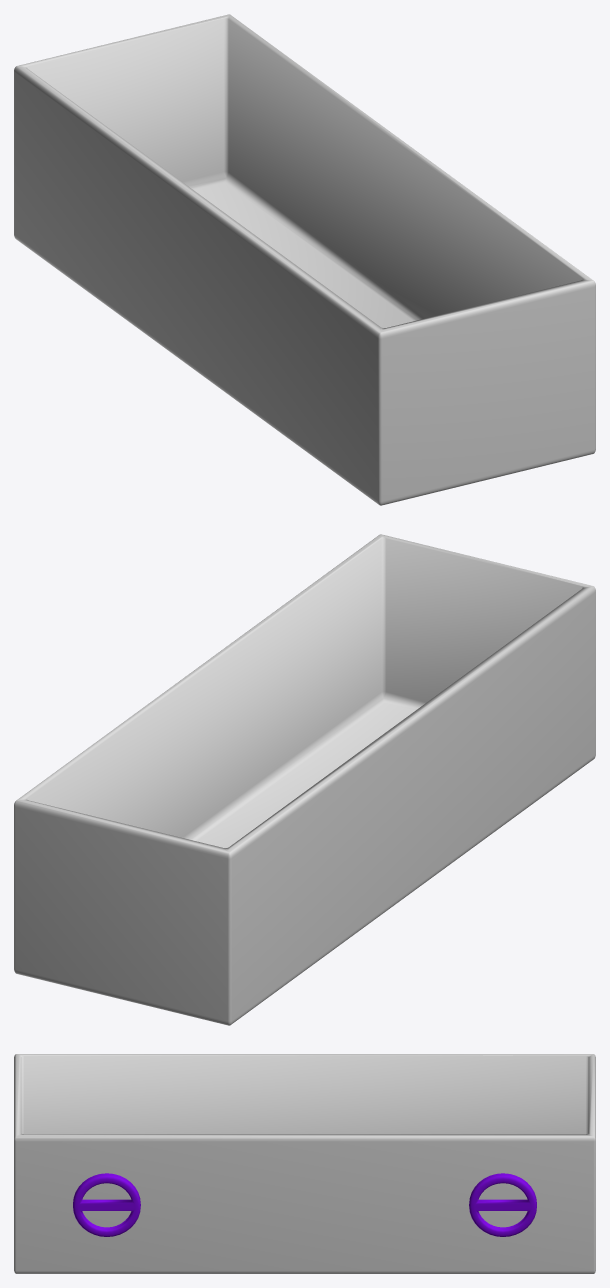
File: Drawer.fbx
3 renders of one model, top to bottom at view 1: azimuth 30°, elevation 25°; view 2: azimuth 150°, elevation 25°; view 3: azimuth 270°, elevation 25°, orthographic. The views are drawn at different scales.
Visible parts, largest first — view 1: Drawer_3; view 2: Drawer_3; view 3: Drawer_3.
Part boxes in pixels (box(x1,y1,x2,y2)): Drawer_3: box(14, 14, 595, 505); Drawer_3: box(14, 534, 595, 1025); Drawer_3: box(14, 1054, 595, 1273).
Bounding box in the file's own units: 251 × 184 × 705.
